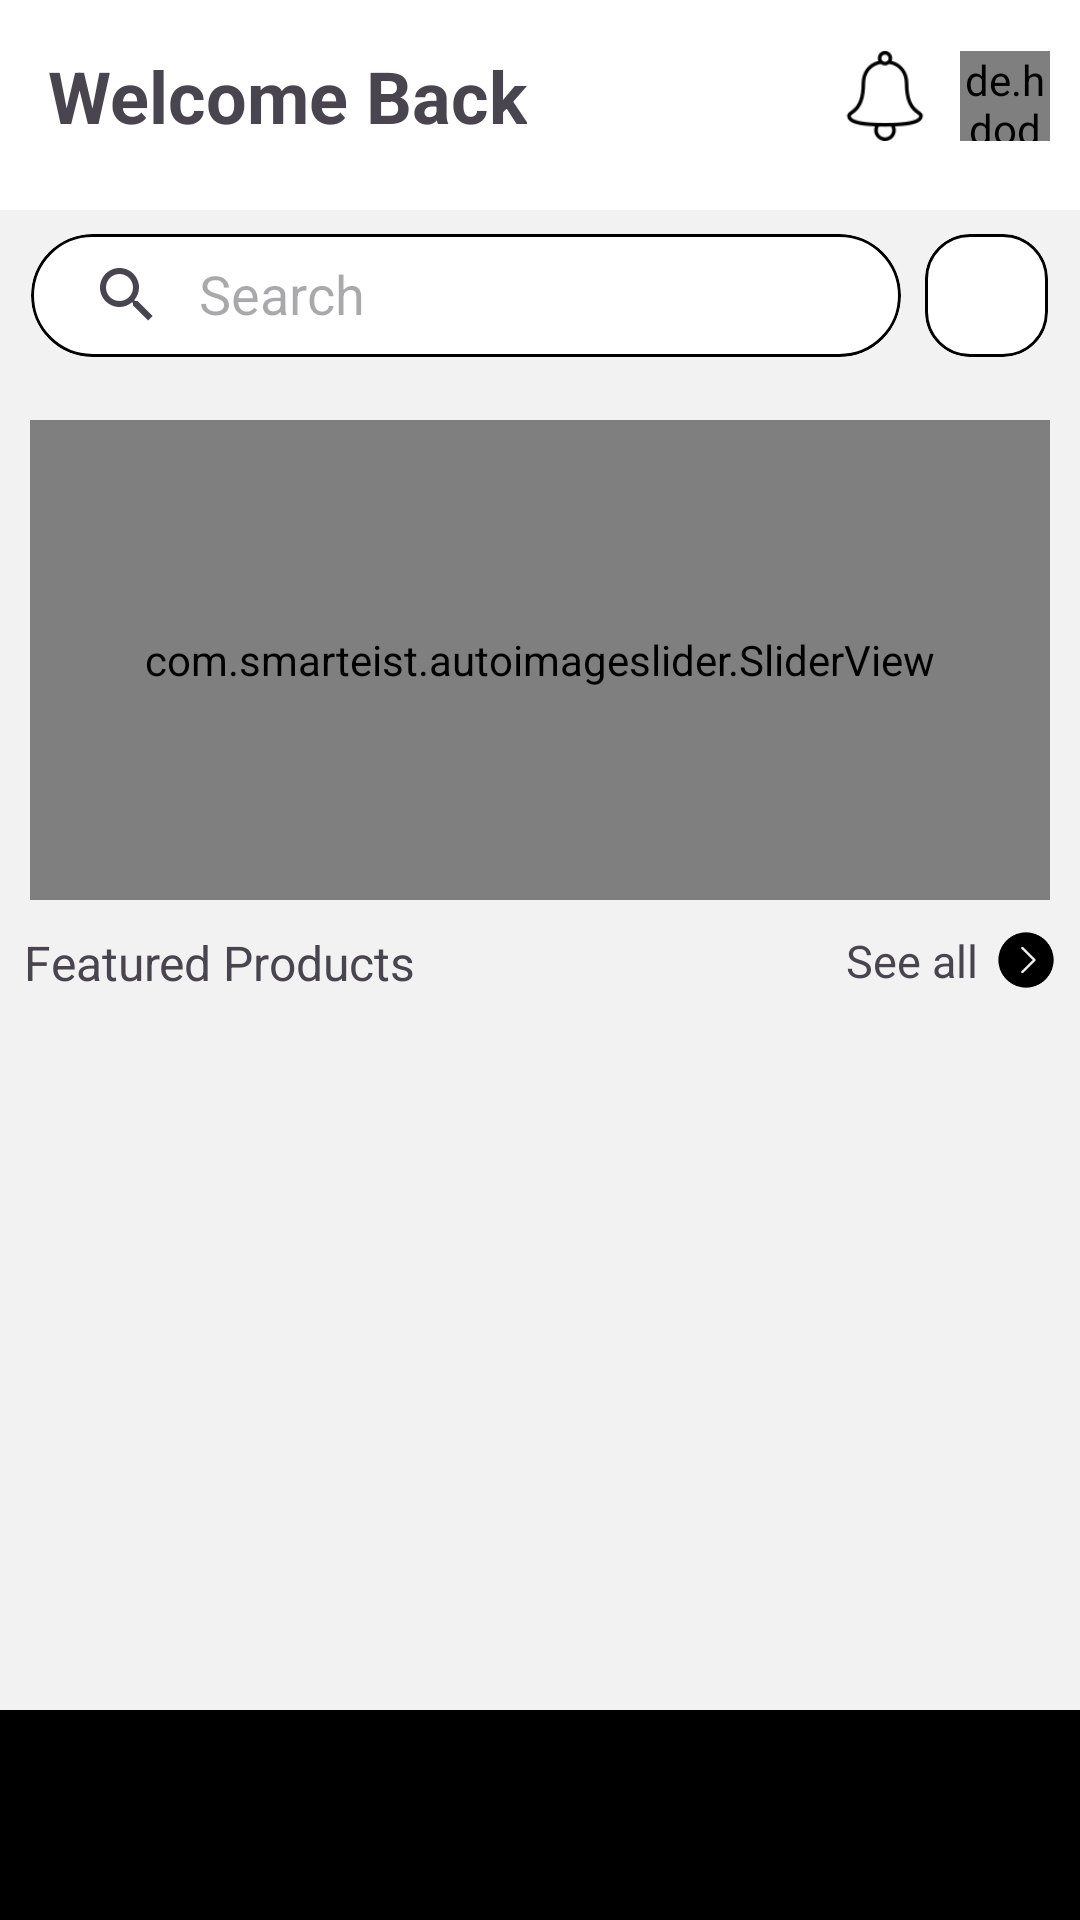

Locate icon controls on the screen. Image size 1080 x 1920, boxes as (x1, y1, x2, y2).
next: (998, 932, 1054, 988)
notification: (846, 51, 924, 141)
